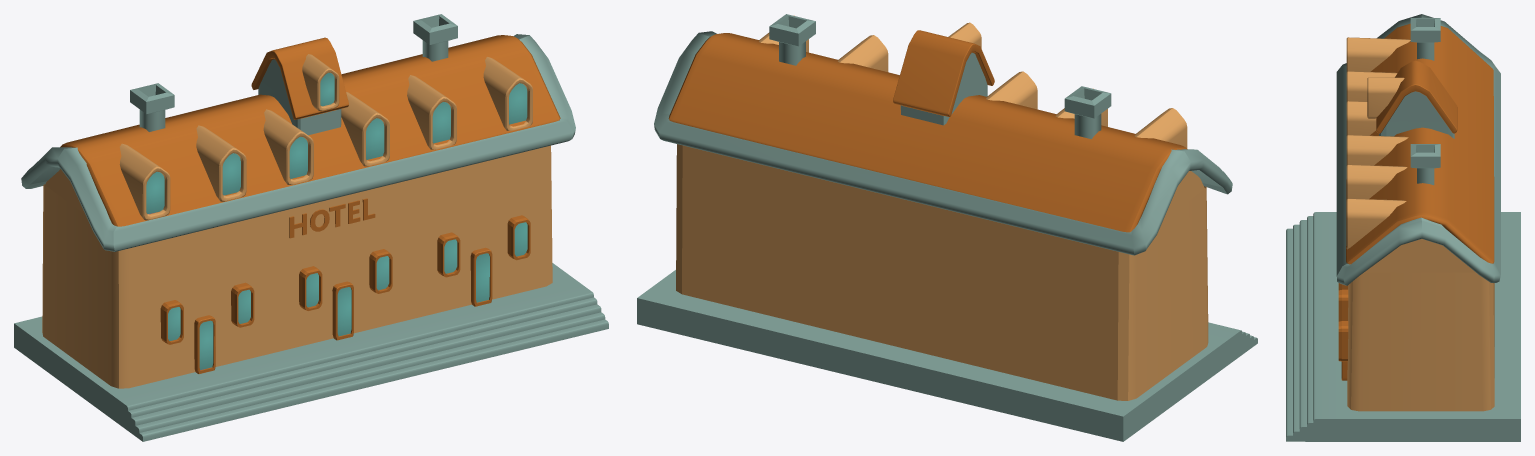
The model's file is SM_Hotel.fbx.
3 renders of one model, left to right at view 1: azimuth 30°, elevation 25°; view 2: azimuth 150°, elevation 25°; view 3: azimuth 270°, elevation 25°, orthographic. The views are drawn at different scales.
Parts seen in each view (by area): view 1: SM_Hotel; view 2: SM_Hotel; view 3: SM_Hotel.
Part boxes in pixels (box(x1,y1,x2,y2)): SM_Hotel: box(14, 14, 608, 441); SM_Hotel: box(637, 14, 1257, 441); SM_Hotel: box(1286, 14, 1520, 441).
Bounding box in the file's own units: 1887 × 1095 × 881.
